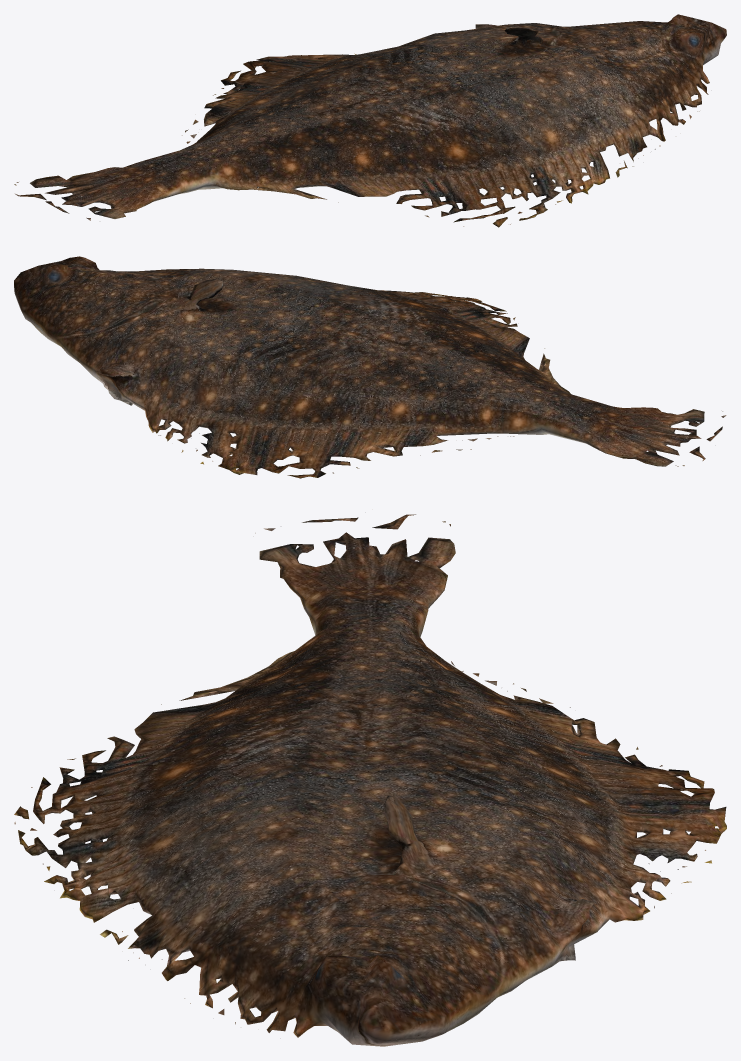
File: scan_starry_flounder.glb
3 renders of one model, top to bottom at view 1: azimuth 30°, elevation 25°; view 2: azimuth 150°, elevation 25°; view 3: azimuth 270°, elevation 25°, orthographic. The views are drawn at different scales.
Parts seen in each view (by area): view 1: scan_starry_flounder; view 2: scan_starry_flounder; view 3: scan_starry_flounder.
Boxes of the visible parts, box(x1,y1,x2,y2) form: scan_starry_flounder: box(14, 14, 726, 227); scan_starry_flounder: box(14, 256, 726, 478); scan_starry_flounder: box(14, 514, 726, 1046).
Size of the model in its own units: 0.4475 by 0.0761 by 0.2575.
Materials: 1 (1 with a texture image).
